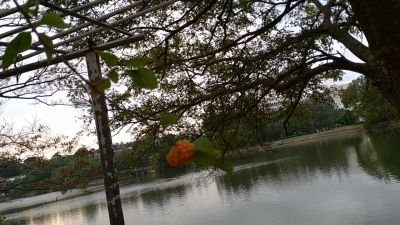eggs: (165, 139, 196, 168)
